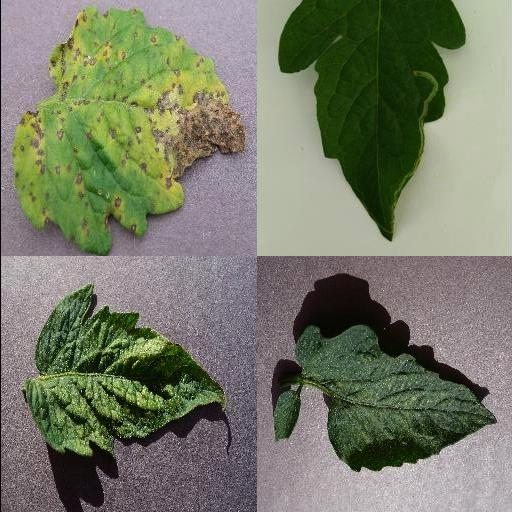Leaf Miner: (277, 1, 465, 245)
Septoria: (9, 8, 245, 256)
Spider Mites: (24, 285, 226, 459), (294, 325, 496, 473)
